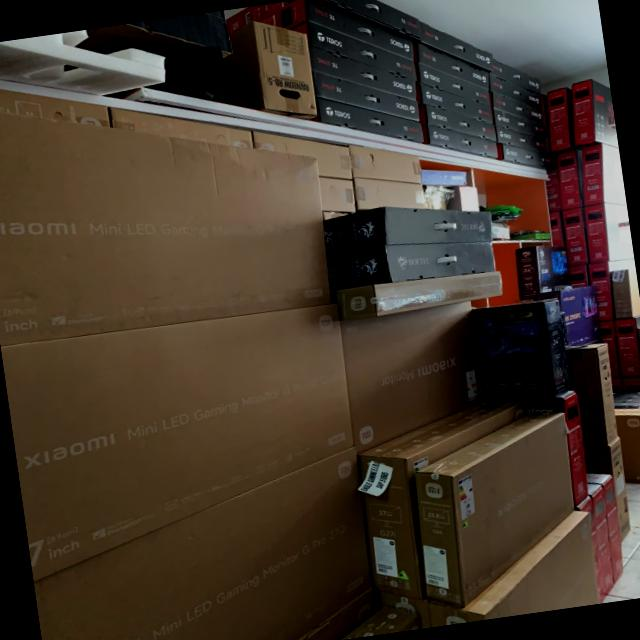caja-monitor: (1, 306, 352, 579), (0, 108, 330, 346), (34, 448, 371, 640), (359, 399, 528, 600), (415, 411, 574, 607), (0, 80, 387, 148), (341, 302, 480, 453), (428, 511, 600, 627), (472, 300, 568, 405), (255, 0, 415, 62), (324, 207, 492, 257), (328, 242, 495, 290), (225, 0, 422, 40), (339, 272, 504, 319), (291, 24, 417, 81), (309, 47, 419, 102), (111, 108, 256, 149), (315, 70, 423, 123), (564, 344, 619, 445), (253, 134, 353, 180), (0, 90, 110, 128), (589, 472, 626, 584), (538, 285, 601, 347), (418, 21, 492, 71), (417, 42, 490, 89), (570, 79, 618, 147), (418, 65, 493, 107), (517, 246, 572, 302), (585, 202, 634, 264), (587, 258, 635, 321), (420, 86, 496, 125), (349, 145, 421, 185), (420, 106, 498, 142), (581, 144, 626, 206), (426, 124, 497, 159), (354, 178, 423, 211), (545, 89, 574, 154), (489, 77, 544, 110), (491, 92, 544, 126), (490, 60, 542, 94), (557, 149, 585, 210), (560, 208, 587, 267), (495, 111, 546, 139), (497, 144, 551, 170), (498, 129, 549, 154), (321, 178, 358, 211), (569, 264, 590, 289)
